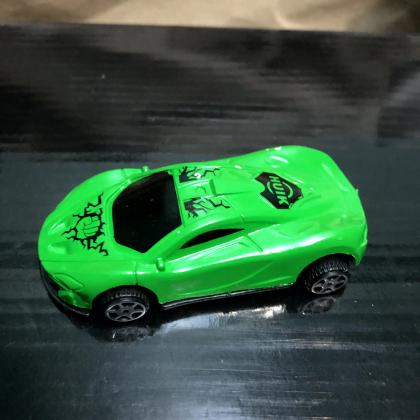Car: (37, 146, 368, 326)
